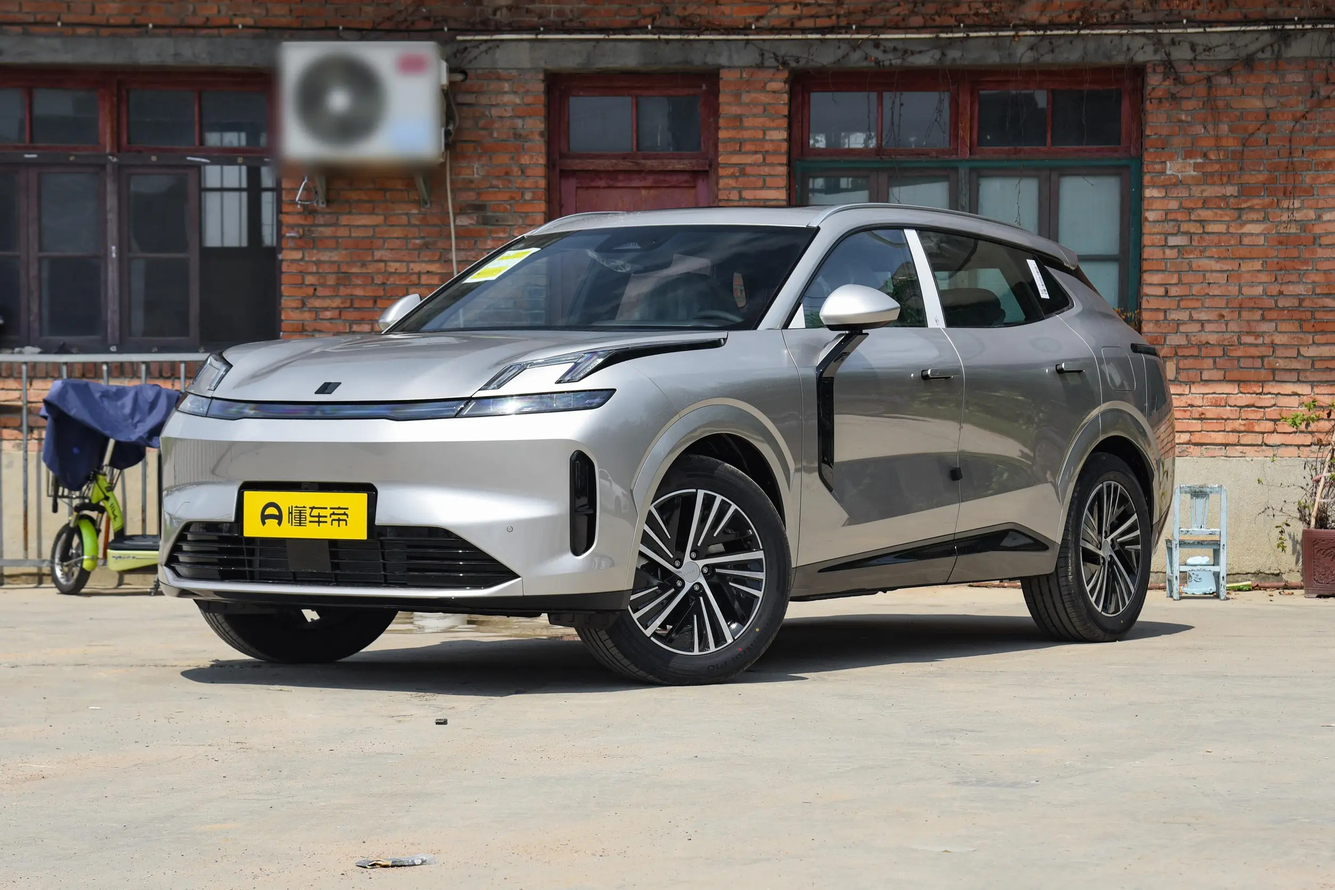LINK&CO: (315, 382, 341, 394)
